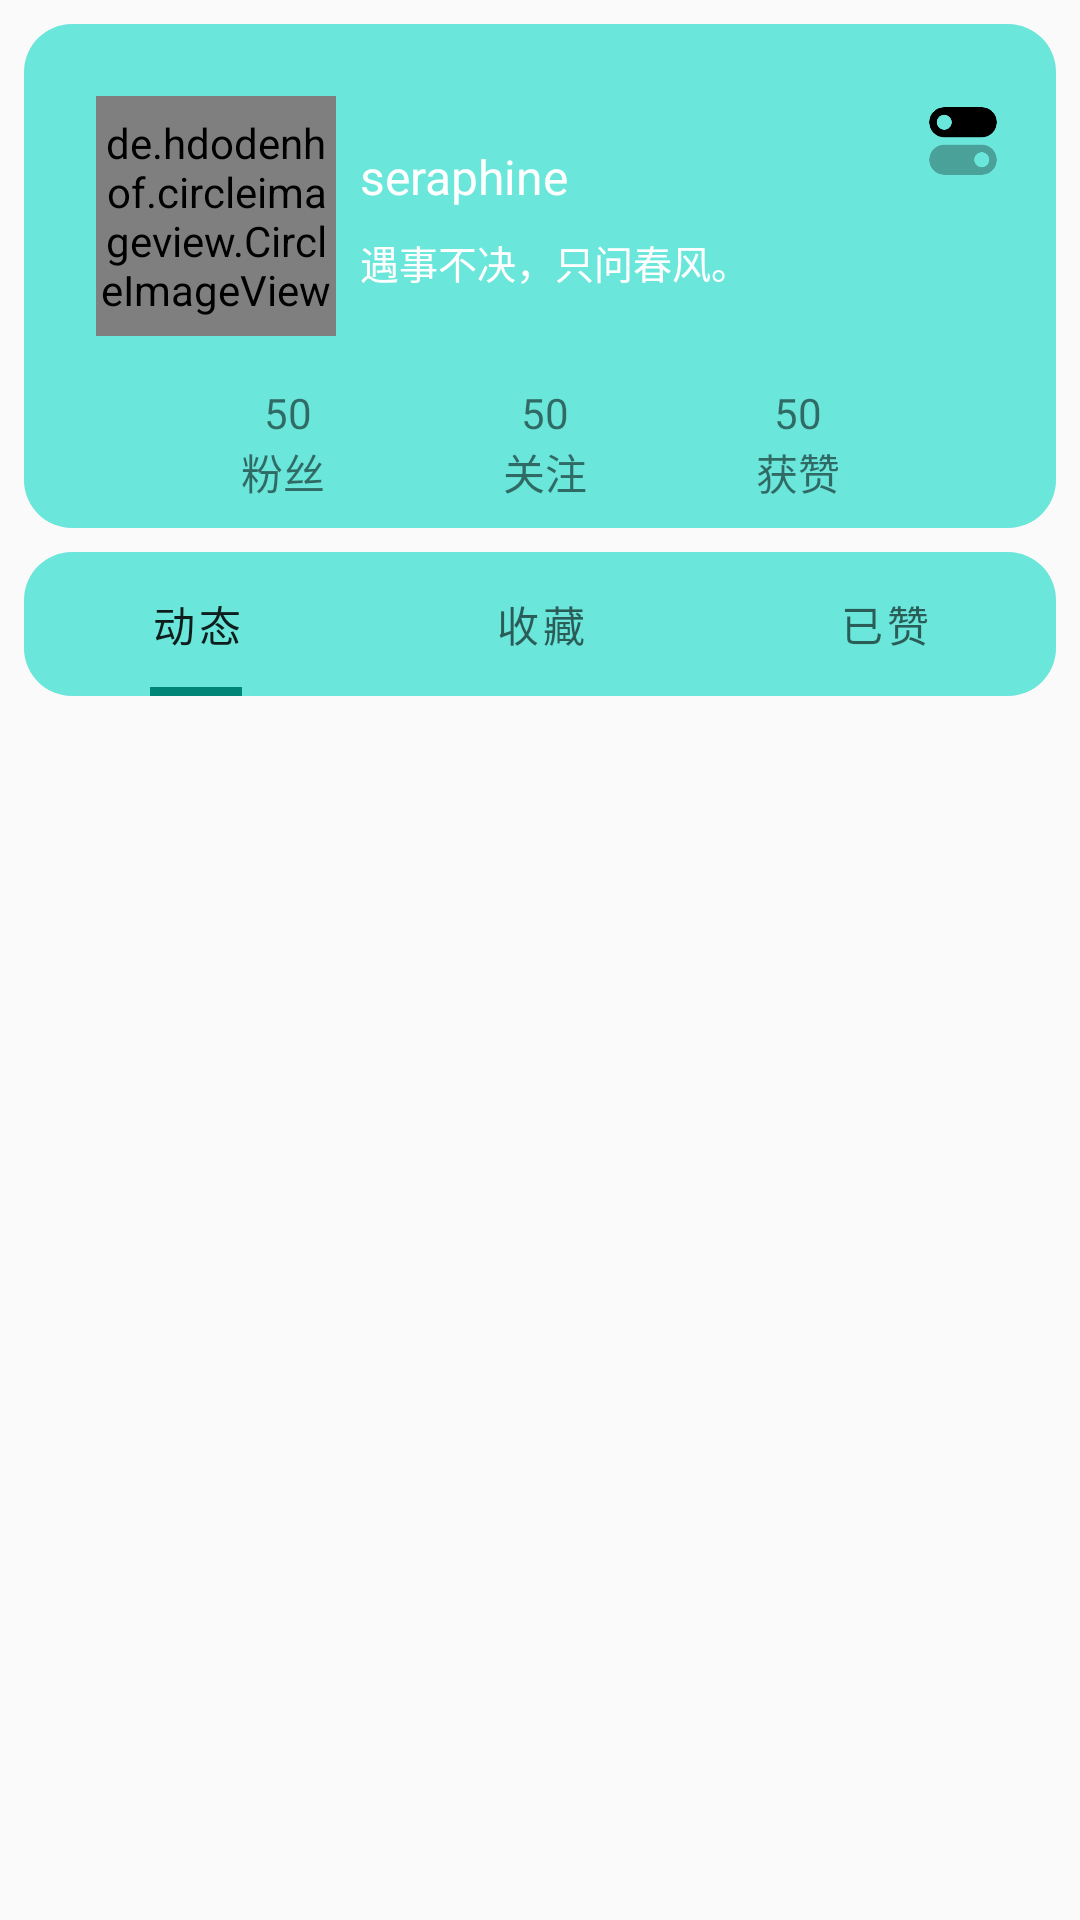

Point at icon controls on the screen. Image size 1080 x 1920, points as point (x, y).
settings: point (963, 141)
